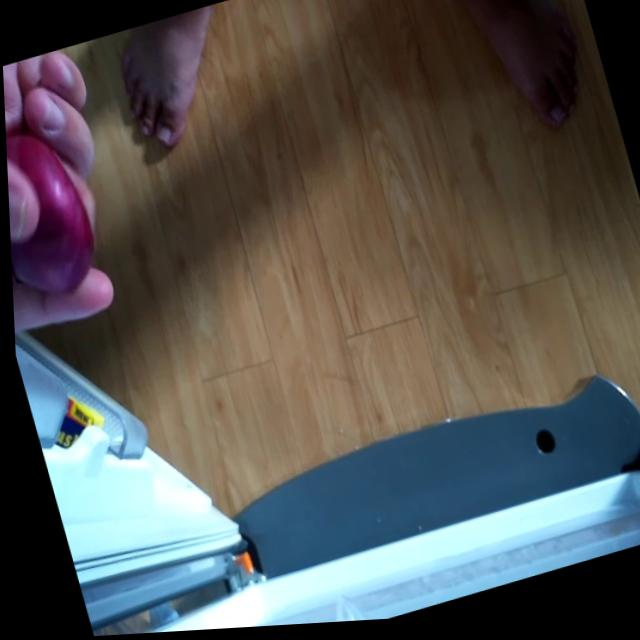onion: (4, 109, 124, 355)
